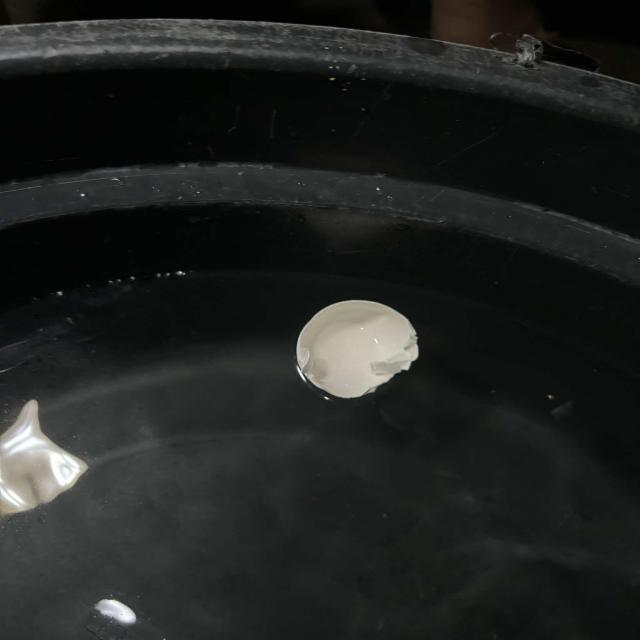Eggshell: (296, 300, 418, 399)
